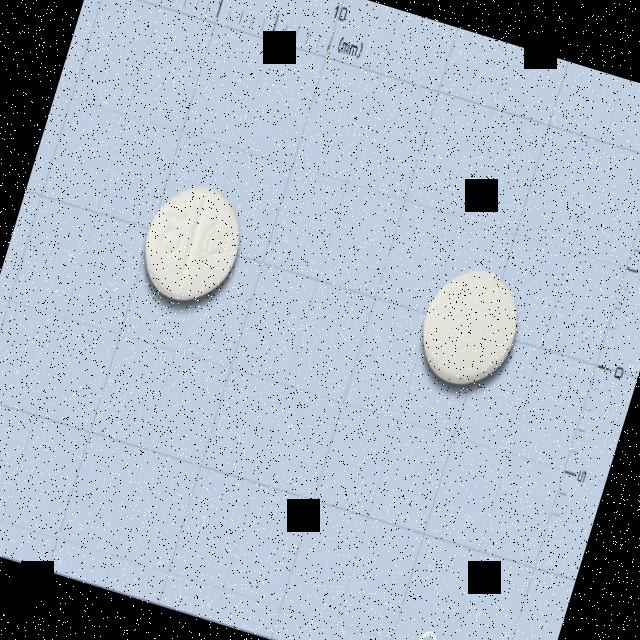CLARITYNE: (122, 161, 260, 326)
